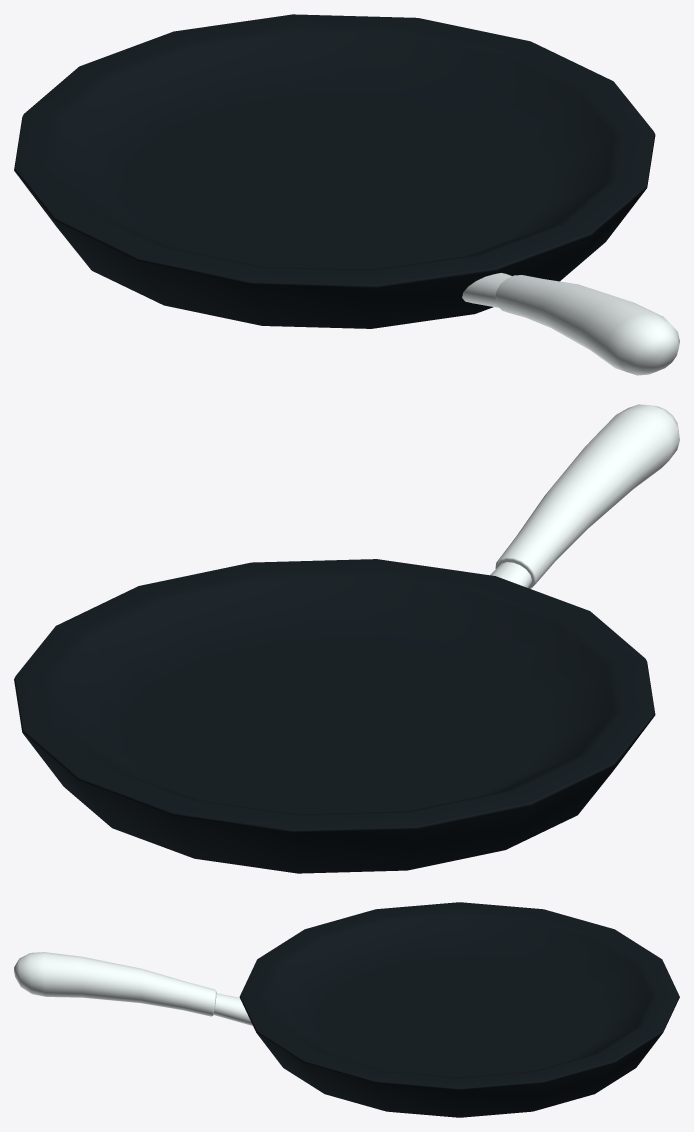
File: Pan.fbx
3 views of the same model, one above another, from view 1: azimuth 30°, elevation 25°; view 2: azimuth 150°, elevation 25°; view 3: azimuth 270°, elevation 25° (orthographic). The views are drawn at different scales.
Visible parts, largest first — view 1: Pan; view 2: Pan; view 3: Pan.
Part boxes in pixels (<box>): Pan: <box>14,14,679,375</box>; Pan: <box>14,404,679,873</box>; Pan: <box>14,902,679,1117</box>.
Bounding box in the file's own units: 171 × 37.73 × 258.
